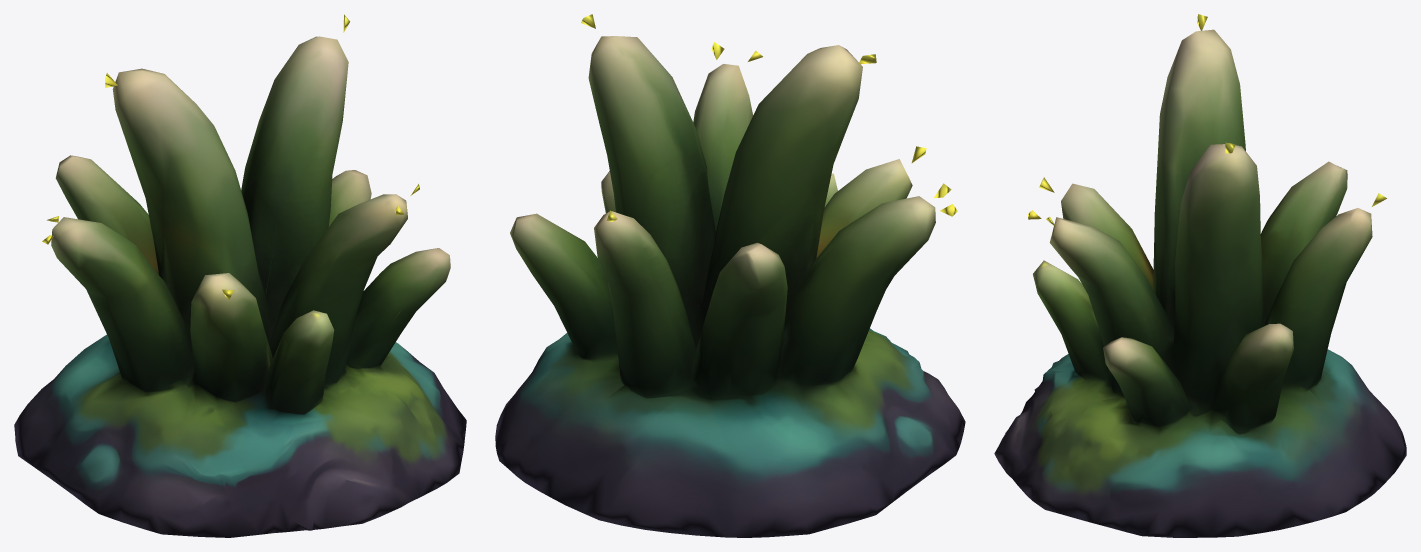
Rendered from env_grass_tuft_05m_a.glb.
The picture shows the model from 3 angles, left to right: view 1: azimuth 30°, elevation 25°; view 2: azimuth 150°, elevation 25°; view 3: azimuth 270°, elevation 25°; orthographic projection. The views are drawn at different scales.
Visible parts, largest first — view 1: tripo_node_6e9c8e20-24d7-4f05-9cd2-ea2bba29add6; view 2: tripo_node_6e9c8e20-24d7-4f05-9cd2-ea2bba29add6; view 3: tripo_node_6e9c8e20-24d7-4f05-9cd2-ea2bba29add6.
Boxes of the visible parts, x1,y1,x2,y2 form: tripo_node_6e9c8e20-24d7-4f05-9cd2-ea2bba29add6: [14, 14, 466, 537]; tripo_node_6e9c8e20-24d7-4f05-9cd2-ea2bba29add6: [495, 14, 965, 537]; tripo_node_6e9c8e20-24d7-4f05-9cd2-ea2bba29add6: [994, 14, 1406, 537].
Bounding box in the file's own units: 1 × 0.951 × 0.953.
Materials: 1 (1 with a texture image).
